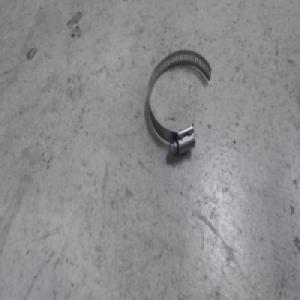AdjustableClamp: (143, 46, 212, 154)
